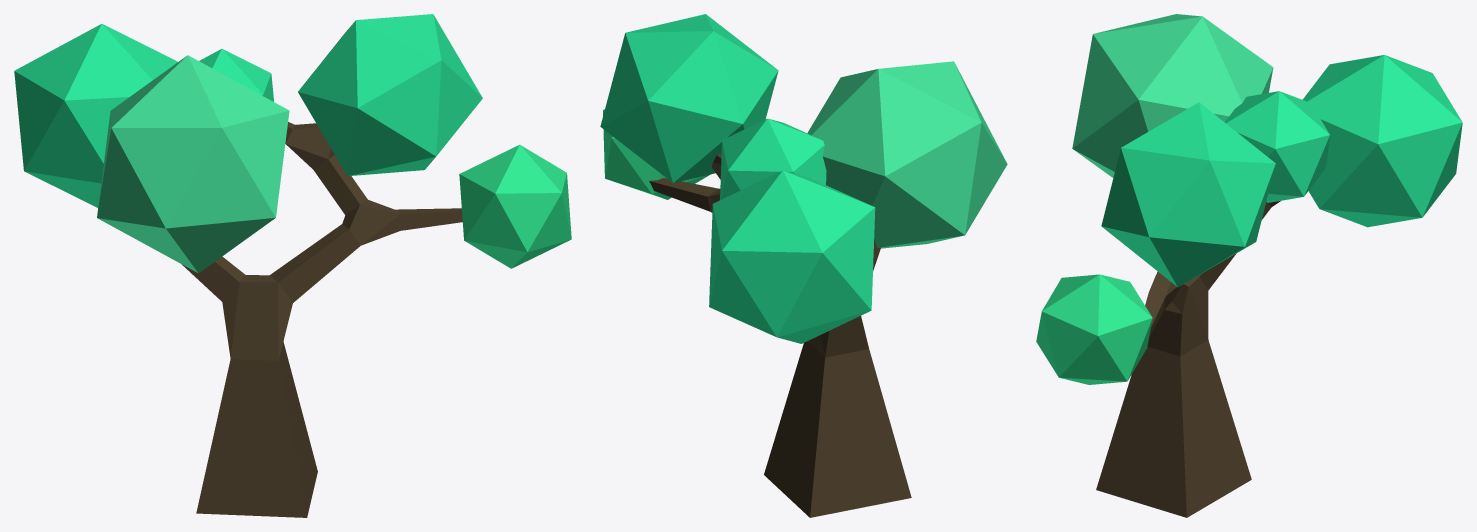
Rendered from TREE_V1.fbx.
The picture shows the model from 3 angles, left to right: view 1: azimuth 30°, elevation 25°; view 2: azimuth 150°, elevation 25°; view 3: azimuth 270°, elevation 25°; orthographic projection.
Parts seen in each view (by area): view 1: Cube, Icosphere.004, Icosphere.001, Icosphere, Icosphere.002, Icosphere.003; view 2: Icosphere.004, Icosphere, Cube, Icosphere.001, Icosphere.003, Icosphere.002; view 3: Cube, Icosphere.001, Icosphere, Icosphere.004, Icosphere.002, Icosphere.003.
Boxes of the visible parts, bbox=[...] form: Cube: bbox=[181, 122, 462, 517]; Icosphere.004: bbox=[97, 55, 289, 273]; Icosphere.001: bbox=[298, 14, 482, 176]; Icosphere: bbox=[14, 24, 177, 207]; Icosphere.002: bbox=[459, 144, 571, 268]; Icosphere.003: bbox=[199, 49, 273, 101]; Icosphere.004: bbox=[807, 61, 1007, 248]; Icosphere: bbox=[709, 170, 875, 343]; Cube: bbox=[649, 153, 911, 517]; Icosphere.001: bbox=[600, 14, 778, 182]; Icosphere.003: bbox=[720, 118, 826, 199]; Icosphere.002: bbox=[603, 109, 710, 199]; Cube: bbox=[1096, 201, 1280, 517]; Icosphere.001: bbox=[1101, 102, 1275, 287]; Icosphere: bbox=[1302, 55, 1462, 227]; Icosphere.004: bbox=[1072, 14, 1273, 177]; Icosphere.002: bbox=[1036, 274, 1152, 384]; Icosphere.003: bbox=[1224, 91, 1329, 202].
Bounding box in the file's own units: 490 × 495 × 433.
